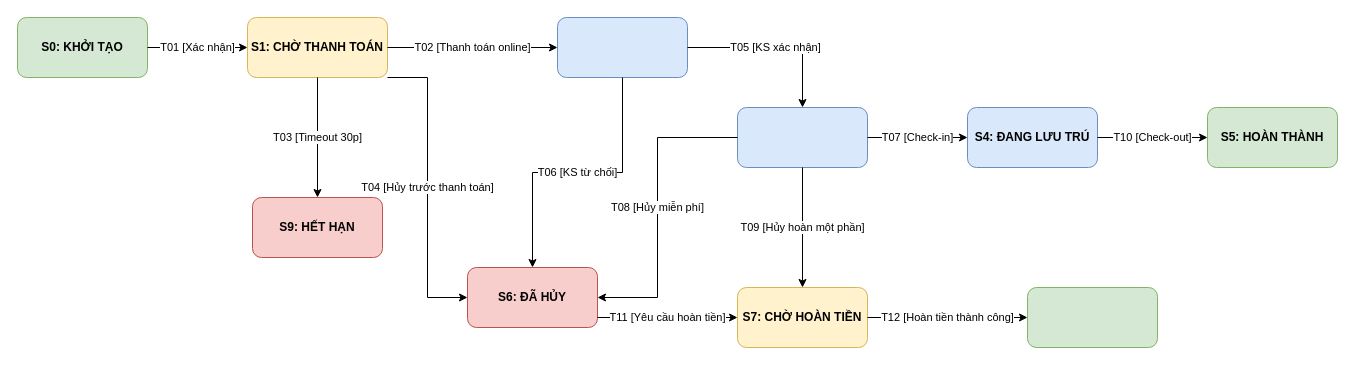
This 1355x365 diagram has some shape labels left out. Here are the shapes that lost their labels. From the top down, the centre of each, then its label:
At point (622, 47): "S2: ĐÃ THANH TOÁN".
At point (802, 137): "S3: ĐÃ XÁC NHẬN".
At point (1092, 317): "S8: ĐÃ HOÀN TIỀN".
